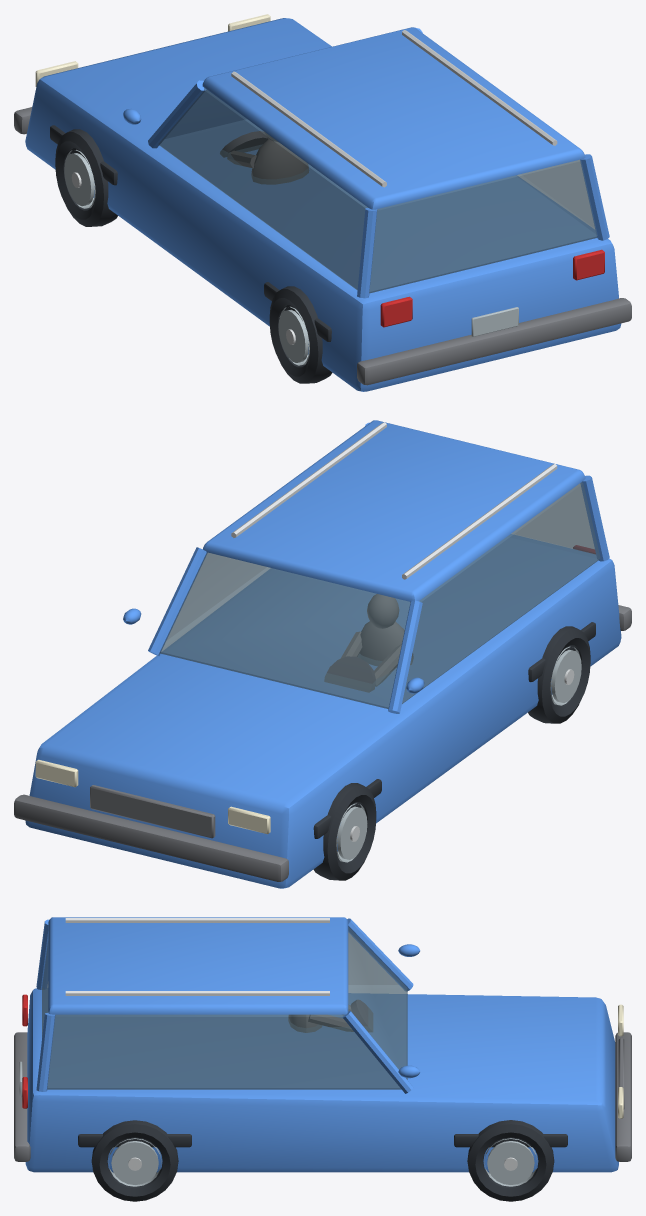
File: TrafficWagon.fbx
The picture shows the model from 3 angles, top to bottom: view 1: azimuth 30°, elevation 25°; view 2: azimuth 150°, elevation 25°; view 3: azimuth 270°, elevation 25°; orthographic projection. The views are drawn at different scales.
Visible parts, largest first — view 1: Body__paint, Body__glass, Body__engine, WheelFL__rubber, WheelRL__rubber, Body__chrome, Body__driver, Body__tail, WheelFL__metal, WheelRL__metal, Body__rubber, Body__metal (+2 smaller); view 2: Body__paint, Body__glass, Body__engine, Body__driver, WheelFL__rubber, WheelRL__rubber, Body__chrome, Body__lamp, Body__interior, WheelFL__metal, WheelRL__metal, Body__rubber; view 3: Body__paint, Body__glass, Body__engine, WheelFR__rubber, WheelRR__rubber, Body__chrome, WheelFR__metal, WheelRR__metal, Body__rubber, Body__driver, Body__interior.
Part boxes in pixels (x1,y1,x2,y2): Body__paint: [25, 18, 621, 391]; Body__glass: [158, 88, 597, 293]; Body__engine: [14, 107, 631, 385]; WheelFL__rubber: [55, 129, 117, 226]; WheelRL__rubber: [269, 286, 332, 383]; Body__chrome: [231, 30, 557, 187]; Body__driver: [227, 131, 308, 184]; Body__tail: [380, 249, 604, 327]; WheelFL__metal: [64, 149, 95, 208]; WheelRL__metal: [278, 306, 309, 365]; Body__rubber: [50, 125, 331, 342]; Body__metal: [471, 307, 518, 336]; Body__paint: [25, 420, 621, 888]; Body__glass: [160, 482, 600, 708]; Body__engine: [14, 605, 631, 881]; Body__driver: [340, 594, 413, 686]; WheelFL__rubber: [313, 783, 376, 880]; WheelRL__rubber: [528, 626, 590, 723]; Body__chrome: [231, 422, 557, 579]; Body__lamp: [35, 759, 270, 834]; Body__interior: [324, 656, 375, 692]; WheelFL__metal: [336, 803, 367, 862]; WheelRL__metal: [550, 646, 581, 705]; Body__rubber: [313, 622, 595, 838]; Body__paint: [25, 917, 618, 1172]; Body__glass: [42, 927, 407, 1089]; Body__engine: [14, 1032, 631, 1161]; WheelFR__rubber: [467, 1120, 554, 1201]; WheelRR__rubber: [91, 1120, 178, 1201]; Body__chrome: [65, 918, 329, 995]; WheelFR__metal: [484, 1138, 537, 1186]; WheelRR__metal: [108, 1138, 161, 1186]; Body__rubber: [78, 1134, 567, 1147]; Body__driver: [288, 1005, 353, 1032]; Body__interior: [350, 999, 372, 1031].
Size of the model in its own units: 2.16 by 1.51 by 4.44.
